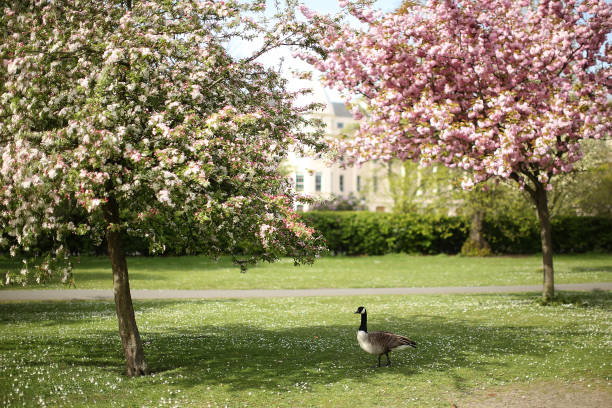goose: (352, 305, 419, 374)
